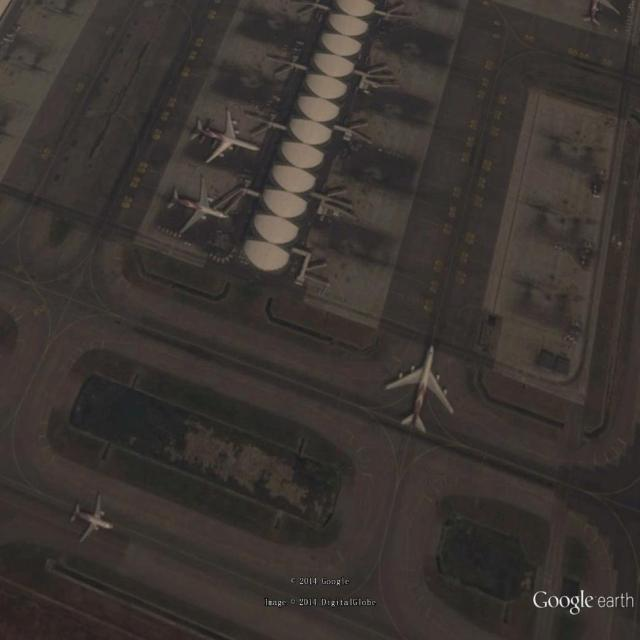aircraft: (379, 341, 457, 439), (162, 175, 236, 240), (186, 105, 262, 167), (68, 491, 117, 547)
